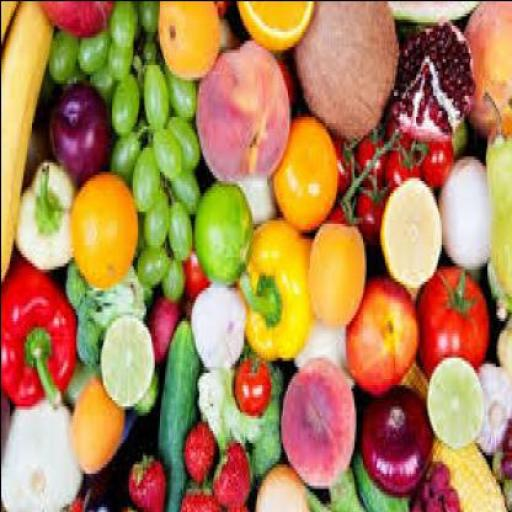biodegradable: (2, 0, 511, 510), (398, 356, 508, 509), (1, 2, 53, 274), (297, 1, 400, 134), (198, 36, 292, 177), (2, 253, 80, 408), (198, 353, 287, 479), (239, 213, 314, 354), (390, 15, 476, 134), (282, 357, 358, 487), (2, 393, 82, 509), (416, 259, 490, 375), (68, 256, 148, 362), (358, 381, 433, 494), (352, 272, 420, 394), (159, 311, 198, 509), (74, 164, 138, 284), (378, 170, 442, 290), (272, 113, 338, 228), (17, 156, 77, 262), (464, 1, 511, 133), (194, 177, 252, 280), (70, 369, 126, 475), (198, 366, 265, 454), (309, 220, 365, 323), (442, 152, 492, 265), (427, 354, 486, 445), (104, 310, 157, 406), (51, 80, 103, 176), (191, 280, 247, 366), (160, 2, 224, 76), (490, 87, 511, 299), (350, 445, 409, 509), (20, 82, 58, 180), (237, 0, 316, 42), (476, 357, 511, 449), (294, 314, 350, 365), (309, 460, 367, 509), (214, 436, 256, 500), (256, 460, 310, 509), (412, 454, 461, 508), (385, 2, 479, 28), (232, 350, 271, 412), (131, 448, 166, 510), (150, 292, 181, 362), (358, 116, 389, 183), (186, 417, 218, 481), (388, 131, 424, 187), (36, 2, 113, 28), (65, 348, 104, 399), (144, 55, 170, 125), (135, 140, 162, 207), (359, 176, 386, 240), (111, 116, 146, 165), (113, 67, 142, 125), (145, 183, 171, 247), (169, 113, 200, 164), (49, 28, 80, 79), (420, 137, 454, 183), (496, 310, 511, 414), (487, 256, 511, 319), (132, 360, 158, 418), (136, 241, 172, 280), (171, 198, 195, 256), (80, 25, 110, 70), (166, 68, 198, 110), (180, 478, 222, 509), (169, 165, 200, 204), (186, 244, 208, 295), (151, 125, 181, 162), (90, 58, 120, 95), (109, 2, 138, 40), (336, 131, 356, 183), (108, 37, 134, 76), (164, 250, 186, 295), (328, 192, 358, 223), (452, 106, 470, 156), (1, 1, 20, 46), (428, 454, 450, 491), (2, 390, 10, 485), (138, 28, 160, 61), (280, 58, 297, 97), (137, 2, 161, 28), (68, 484, 92, 509), (88, 488, 114, 510), (92, 463, 111, 488), (446, 482, 459, 509), (492, 448, 505, 475), (123, 494, 142, 509), (503, 417, 511, 452), (501, 448, 511, 475), (222, 500, 248, 510), (392, 113, 406, 131), (429, 494, 444, 509), (420, 478, 432, 494), (504, 478, 510, 510), (414, 490, 424, 509), (213, 1, 231, 10)
